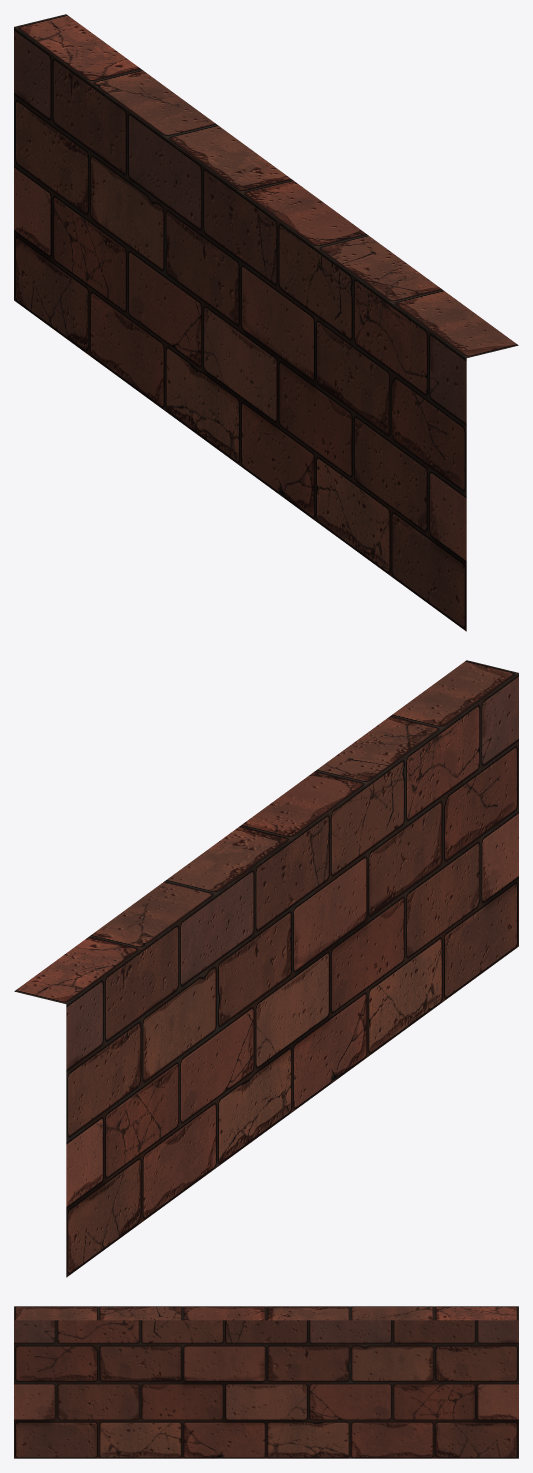
File: foundation02_3m.fbx
3 views of the same model, one above another, from view 1: azimuth 30°, elevation 25°; view 2: azimuth 150°, elevation 25°; view 3: azimuth 270°, elevation 25° (orthographic). The views are drawn at different scales.
Visible parts, largest first — view 1: foundation02_3m; view 2: foundation02_3m; view 3: foundation02_3m.
Boxes of the visible parts, x1=… form: foundation02_3m: x1=14, y1=14, x2=518, y2=631; foundation02_3m: x1=14, y1=660, x2=518, y2=1277; foundation02_3m: x1=14, y1=1306, x2=518, y2=1458.
Size of the model in its own units: 20 by 100 by 300.
